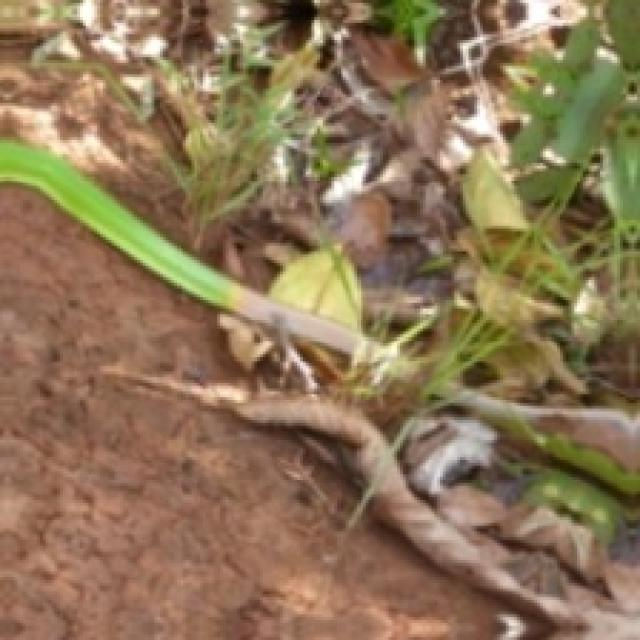red-tailed green ratsnake: (0, 142, 380, 359), (446, 386, 640, 472)
